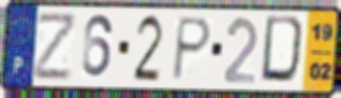2: (222, 15, 260, 86), (133, 13, 166, 84)
6: (81, 13, 114, 83)
D: (258, 14, 309, 88)
P: (169, 15, 215, 83)
Z: (33, 12, 80, 83)
